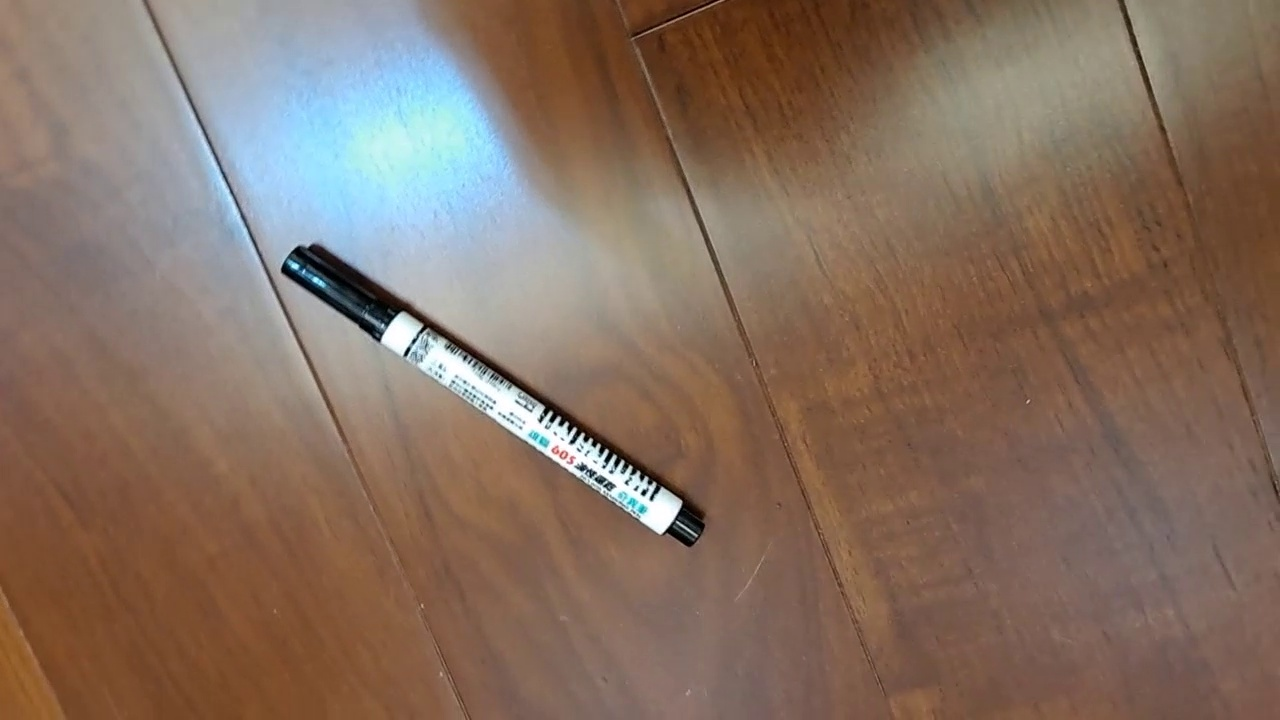pen: (279, 243, 706, 549)
